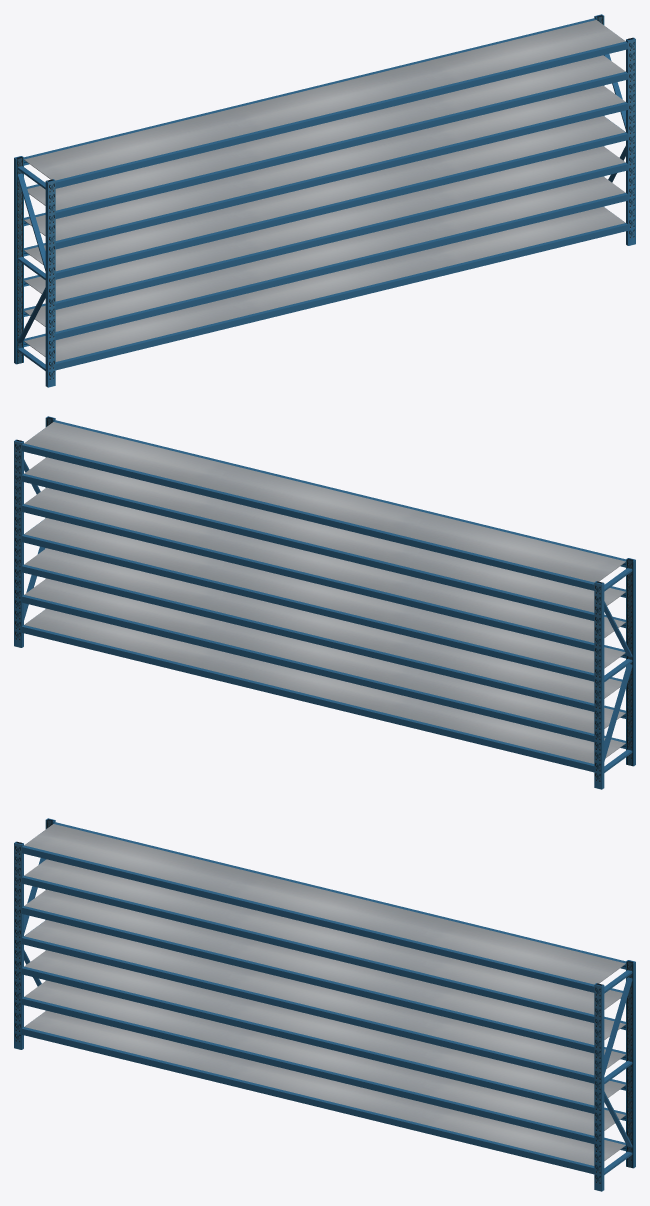
The model's file is myModel.obj.
3 views of the same model, one above another, from view 1: azimuth 30°, elevation 25°; view 2: azimuth 150°, elevation 25°; view 3: azimuth 330°, elevation 25° (orthographic).
Parts seen in each view (by area): view 1: Mesh2; view 2: Mesh2; view 3: Mesh2.
Part boxes in pixels (<box>): Mesh2: <box>14,14,635,387</box>; Mesh2: <box>14,416,635,789</box>; Mesh2: <box>14,818,635,1191</box>.
Size of the model in its own units: 6000 by 2000 by 600.
1 material, 1 textured.
